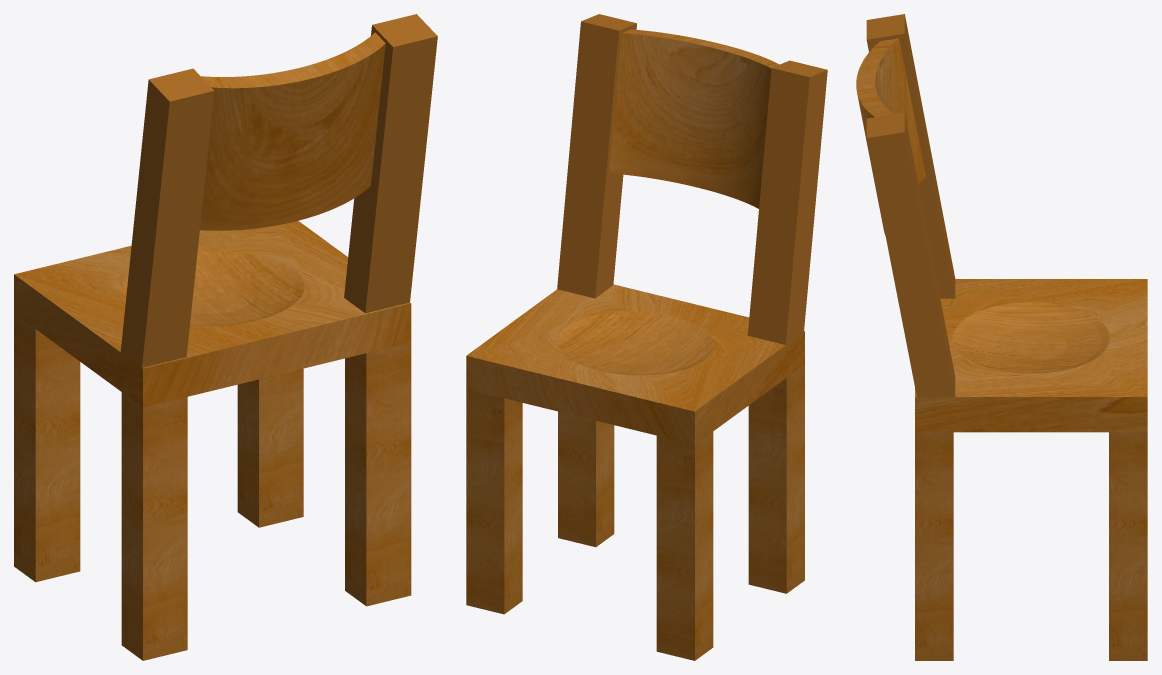
File: stuhl_neu.glb
3 views of the same model, side by side, from view 1: azimuth 30°, elevation 25°; view 2: azimuth 150°, elevation 25°; view 3: azimuth 270°, elevation 25° (orthographic). The views are drawn at different scales.
Parts seen in each view (by area): view 1: NurbsCurve; view 2: NurbsCurve; view 3: NurbsCurve.
Boxes of the visible parts, bbox=[...] form: NurbsCurve: bbox=[14, 14, 437, 660]; NurbsCurve: bbox=[466, 14, 827, 660]; NurbsCurve: bbox=[856, 14, 1147, 660].
Bounding box in the file's own units: 1.44 × 3.01 × 1.5.
Materials: 1 (1 with a texture image).
